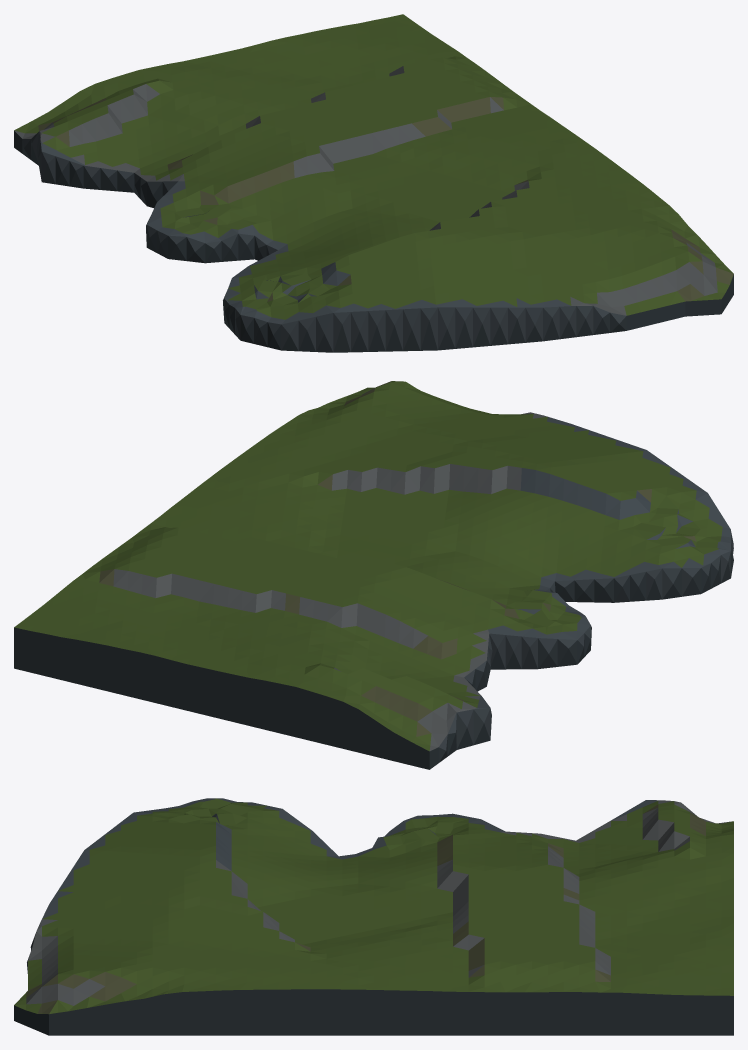
File: mainland_headland.glb
The picture shows the model from 3 angles, top to bottom: view 1: azimuth 30°, elevation 25°; view 2: azimuth 150°, elevation 25°; view 3: azimuth 270°, elevation 25°; orthographic projection. The views are drawn at different scales.
Parts seen in each view (by area): view 1: mainland_headland_Coast blue grey bedrock; view 2: mainland_headland_Coast blue grey bedrock; view 3: mainland_headland_Coast blue grey bedrock.
Boxes of the visible parts, x1,y1,x2,y2 form: mainland_headland_Coast blue grey bedrock: (14, 14, 733, 352); mainland_headland_Coast blue grey bedrock: (14, 381, 733, 769); mainland_headland_Coast blue grey bedrock: (14, 798, 733, 1035).
Size of the model in its own units: 285 by 39.69 by 410.
